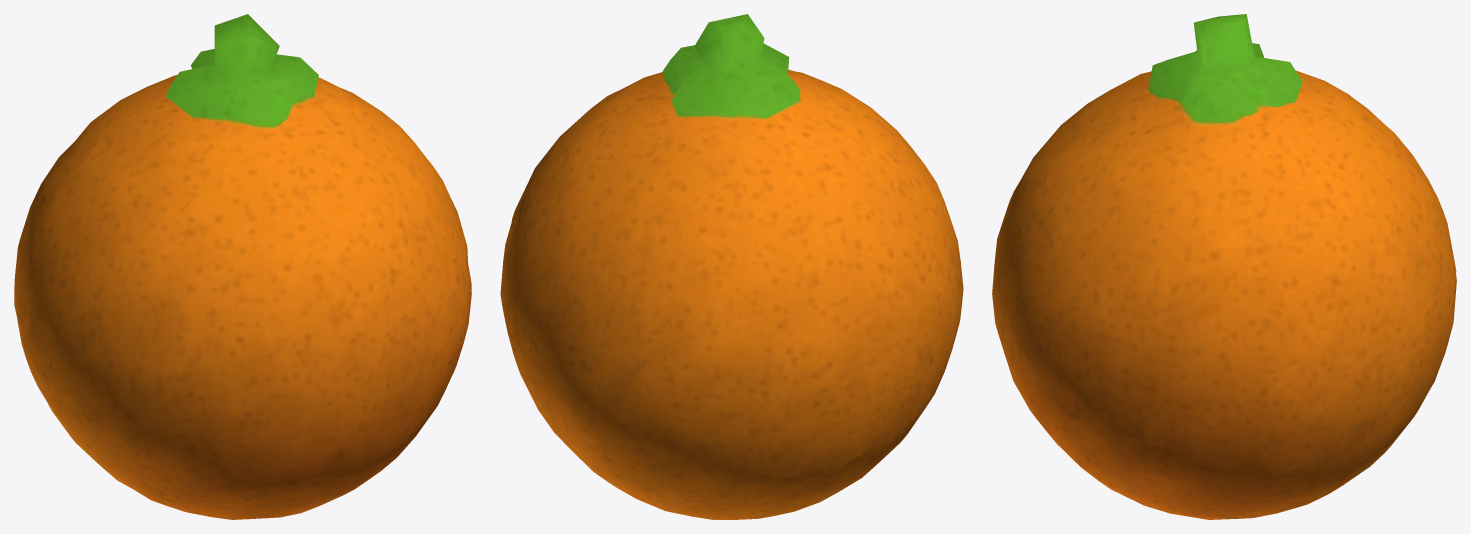
The model's file is pine.glb.
3 renders of one model, left to right at view 1: azimuth 30°, elevation 25°; view 2: azimuth 150°, elevation 25°; view 3: azimuth 270°, elevation 25°, orthographic.
Parts seen in each view (by area): view 1: tripo_node_9eb22804-613d-4d8a-b316-0d30e15c5985; view 2: tripo_node_9eb22804-613d-4d8a-b316-0d30e15c5985; view 3: tripo_node_9eb22804-613d-4d8a-b316-0d30e15c5985.
Part boxes in pixels (x1=…): tripo_node_9eb22804-613d-4d8a-b316-0d30e15c5985: x1=14, y1=14, x2=471, y2=519; tripo_node_9eb22804-613d-4d8a-b316-0d30e15c5985: x1=500, y1=14, x2=963, y2=519; tripo_node_9eb22804-613d-4d8a-b316-0d30e15c5985: x1=992, y1=14, x2=1456, y2=519.
Bounding box in the file's own units: 0.8605 × 0.9868 × 0.8635.
Materials: 1 (1 with a texture image).
